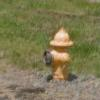Hydrant: (42, 20, 71, 90)
